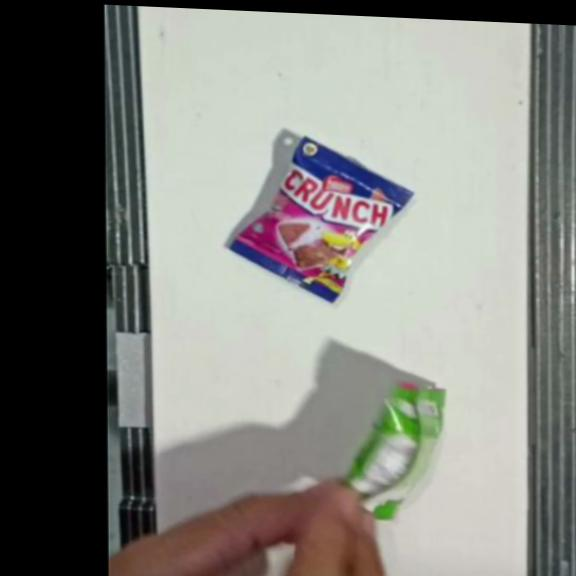Plastik: (223, 132, 415, 308), (345, 382, 444, 523)
